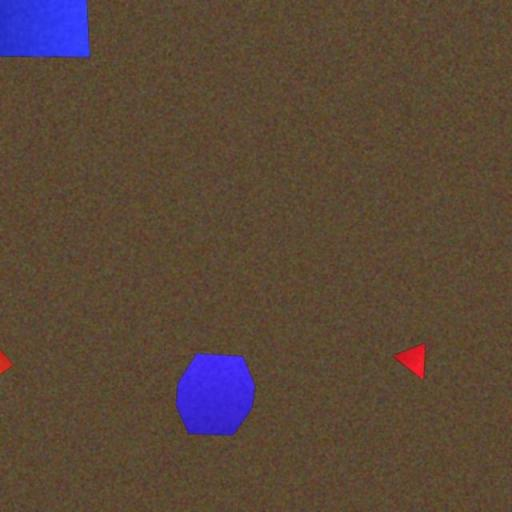BLUE_SQUARE: (0, 0, 91, 58)
